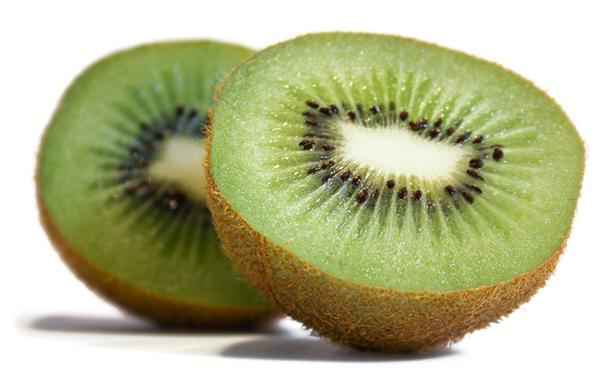kiwi: (195, 23, 591, 352), (28, 31, 209, 338)
